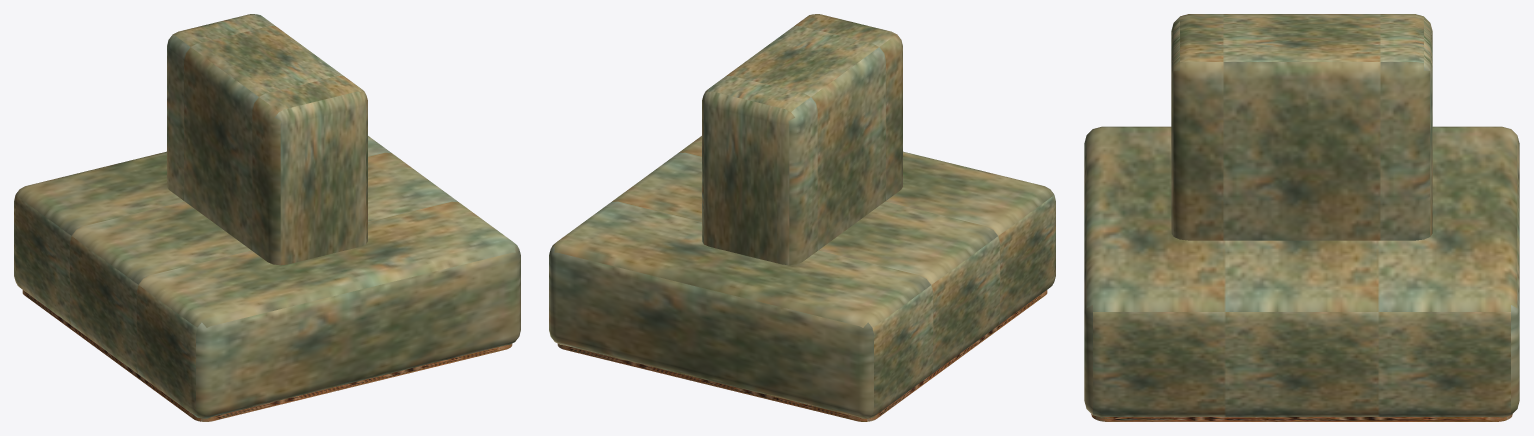
File: dutong.FBX
3 renders of one model, left to right at view 1: azimuth 30°, elevation 25°; view 2: azimuth 150°, elevation 25°; view 3: azimuth 270°, elevation 25°, orthographic. The views are drawn at different scales.
Visible parts, largest first — view 1: ChamferBox003, ChamferBox004, Rectangle003; view 2: ChamferBox003, ChamferBox004, Rectangle003; view 3: ChamferBox003, ChamferBox004, Rectangle003.
Part boxes in pixels (x1=…): ChamferBox003: x1=14, y1=136, x2=520, y2=418; ChamferBox004: x1=167, y1=14, x2=367, y2=265; Rectangle003: x1=22, y1=290, x2=512, y2=421; ChamferBox003: x1=549, y1=136, x2=1055, y2=418; ChamferBox004: x1=702, y1=14, x2=902, y2=265; Rectangle003: x1=557, y1=290, x2=1047, y2=421; ChamferBox003: x1=1084, y1=126, x2=1519, y2=417; ChamferBox004: x1=1171, y1=14, x2=1432, y2=240; Rectangle003: x1=1091, y1=414, x2=1512, y2=421.
Bounding box in the file's own units: 50 × 37.64 × 50.
2 materials, 2 textured.
